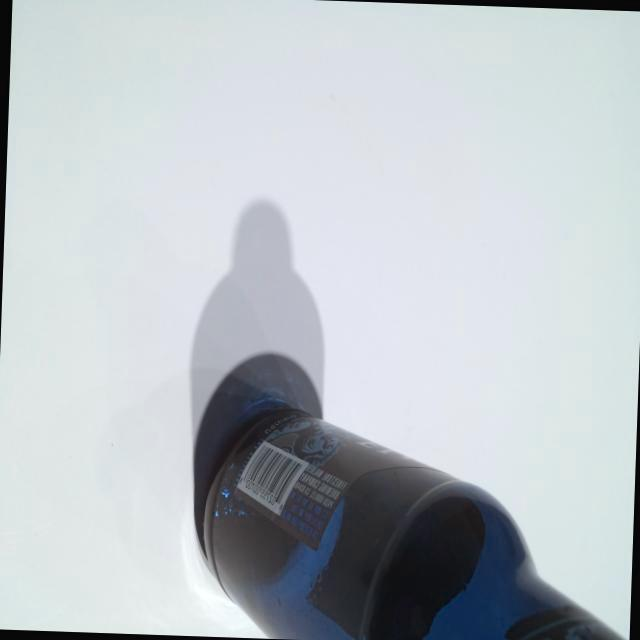glass: (180, 347, 639, 640)
